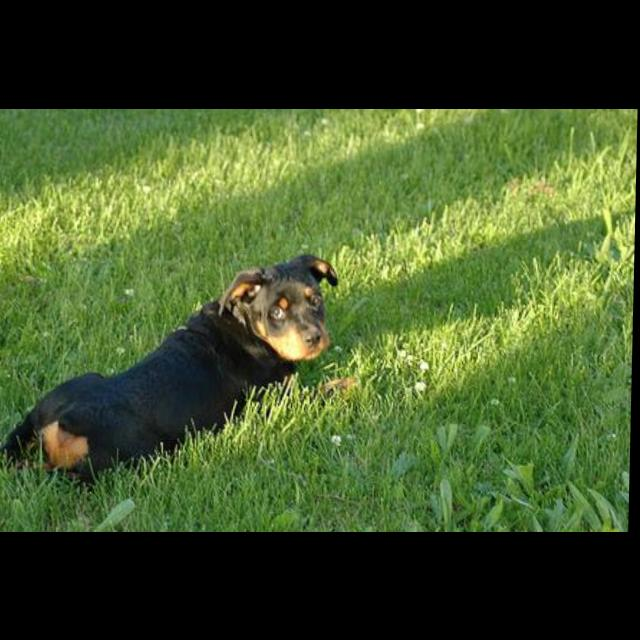rottweiler: (1, 252, 359, 488)
